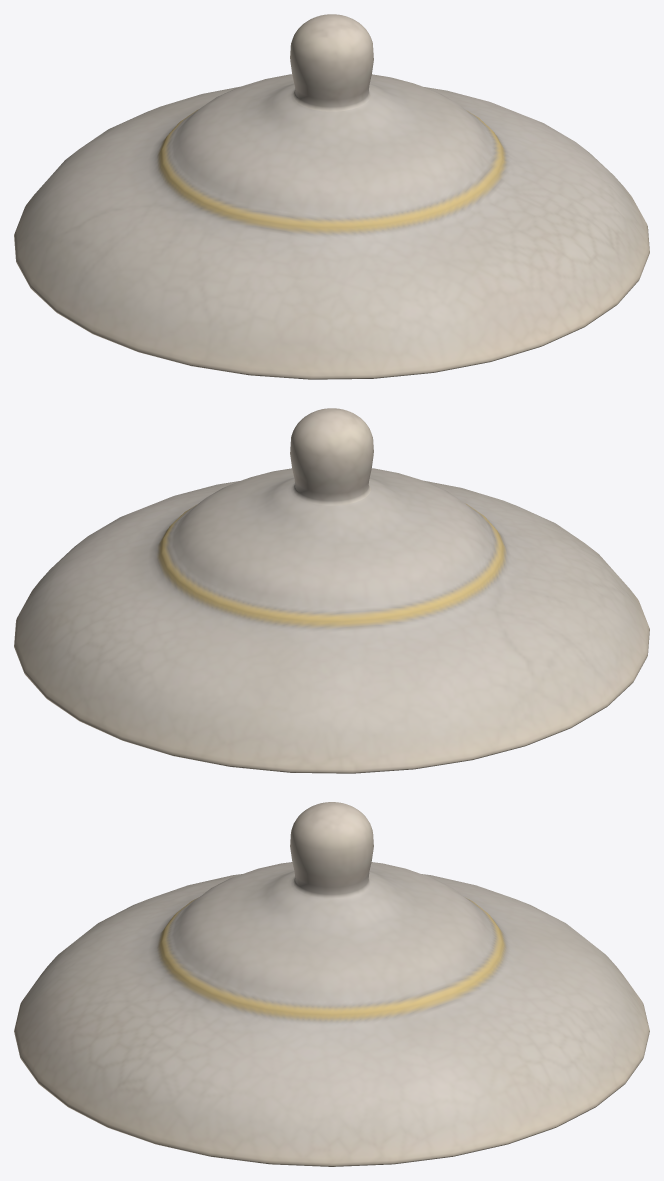
The model's file is teapot_lid.glb.
3 views of the same model, one above another, from view 1: azimuth 30°, elevation 25°; view 2: azimuth 150°, elevation 25°; view 3: azimuth 270°, elevation 25° (orthographic).
Parts seen in each view (by area): view 1: tea_set_01_teapot_01_lid; view 2: tea_set_01_teapot_01_lid; view 3: tea_set_01_teapot_01_lid.
Boxes of the visible parts, x1,y1,x2,y2 form: tea_set_01_teapot_01_lid: [14, 14, 649, 379]; tea_set_01_teapot_01_lid: [14, 408, 649, 773]; tea_set_01_teapot_01_lid: [14, 802, 649, 1166].
Bounding box in the file's own units: 0.1254 × 0.0496 × 0.1254.
Materials: 1 (1 with a texture image).
